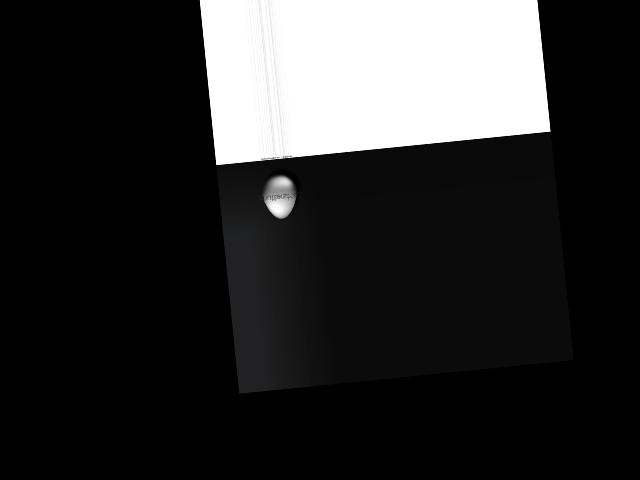egg: (260, 172, 299, 221)
